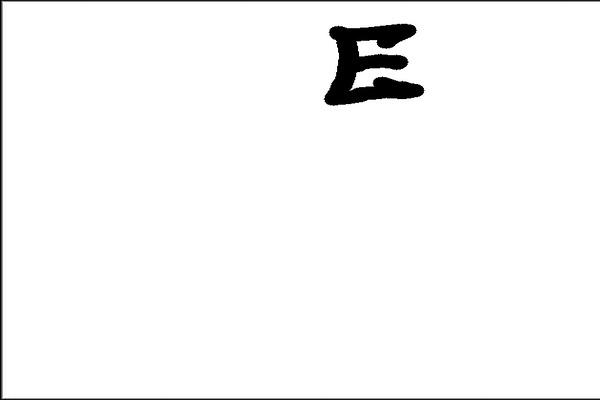E: (320, 21, 426, 110)
